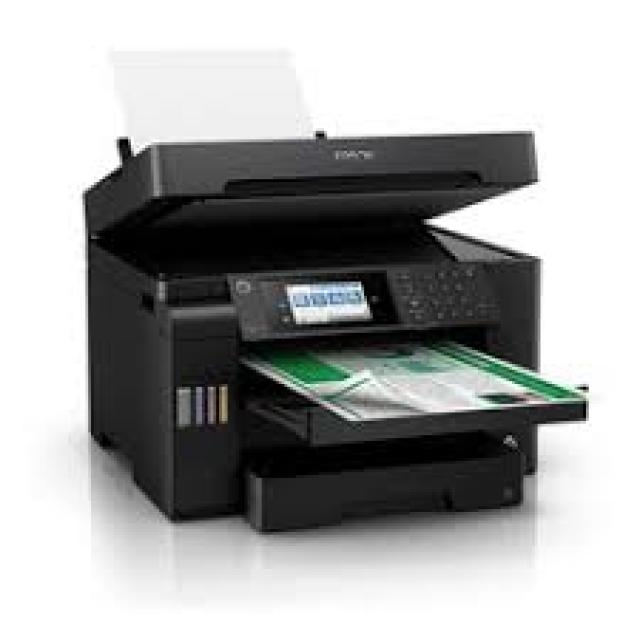printer: (80, 45, 588, 532)
